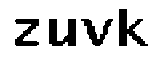k: (115, 3, 149, 51)
u: (45, 14, 78, 52)
v: (80, 12, 115, 48)
z: (8, 14, 42, 53)
